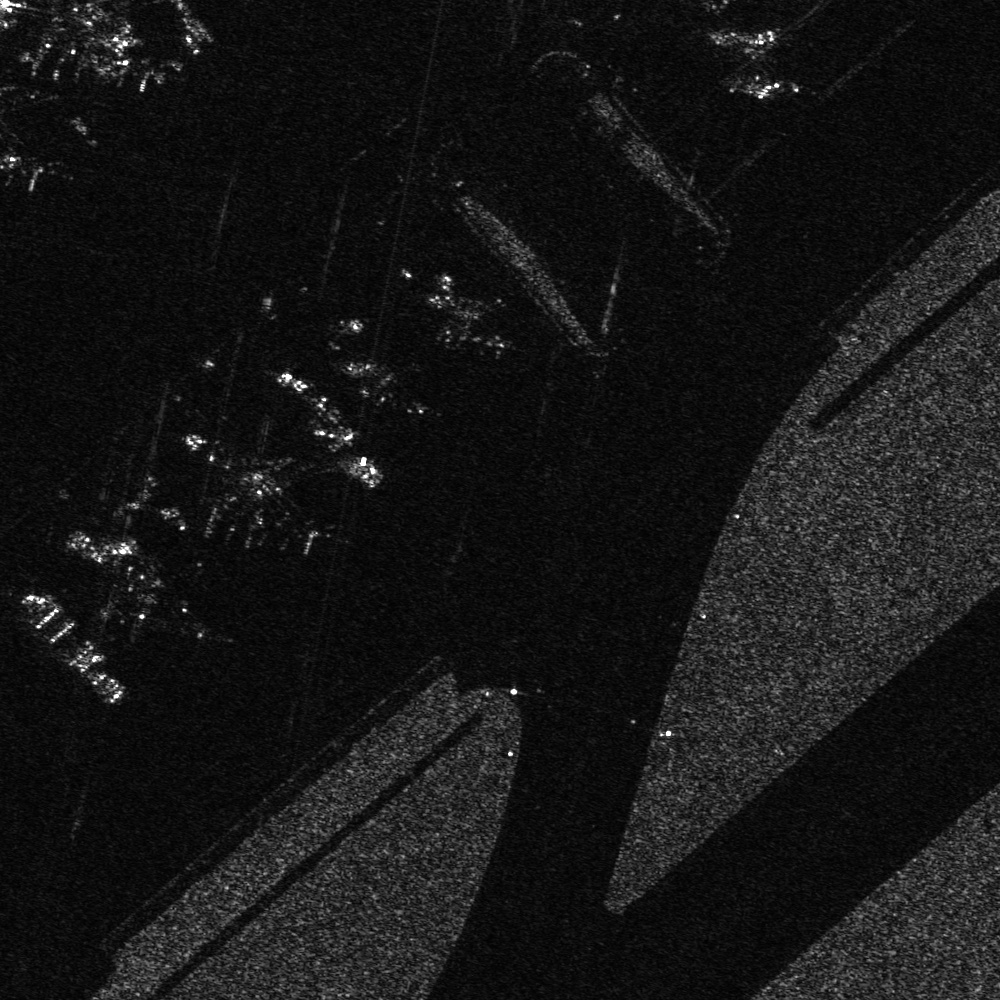Boeing737: (427, 279, 517, 366), (344, 350, 428, 427)
other: (74, 519, 228, 650), (176, 427, 317, 551)
